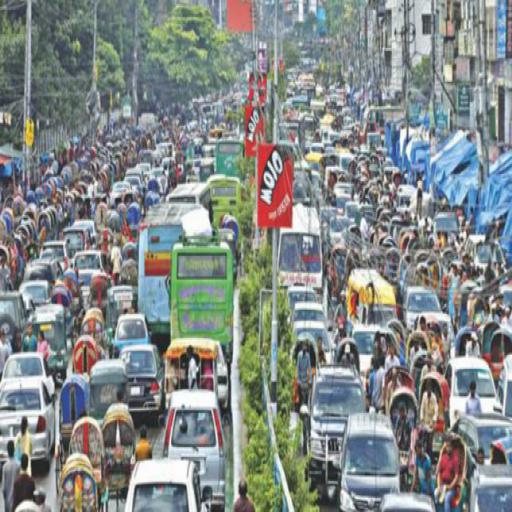bus: (137, 201, 203, 338), (171, 235, 233, 365), (209, 175, 242, 223), (215, 137, 243, 176)
car: (1, 376, 57, 463), (447, 359, 504, 421), (113, 312, 152, 358), (292, 321, 333, 359), (4, 352, 50, 374), (76, 249, 106, 278), (39, 242, 71, 266), (123, 168, 145, 185)
human hauler: (345, 267, 399, 338)
minibus: (278, 201, 325, 293)
minivan: (165, 387, 226, 510), (1, 288, 29, 343)
rickshaw: (102, 403, 135, 495), (68, 414, 107, 483), (292, 332, 319, 424), (417, 370, 451, 441), (59, 452, 99, 512), (390, 387, 418, 469), (434, 437, 466, 506), (384, 366, 415, 410), (74, 334, 100, 375), (490, 328, 512, 373), (406, 328, 432, 366), (81, 307, 104, 344), (457, 328, 482, 355), (386, 247, 401, 281), (108, 210, 121, 239), (128, 205, 140, 236), (39, 209, 51, 230)
suv: (306, 362, 367, 488), (63, 226, 95, 251)
three wheelers (CNG): (34, 304, 68, 374), (109, 286, 135, 320)
van: (340, 411, 401, 510), (473, 464, 512, 510), (167, 181, 210, 205)
